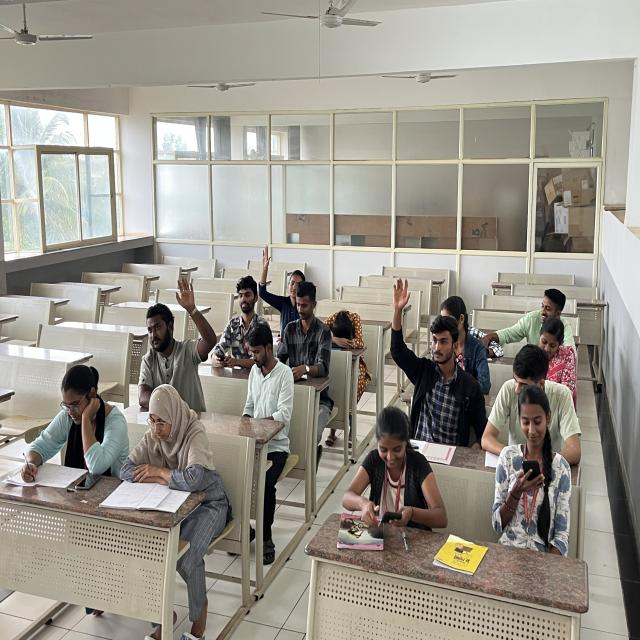Hand Rising: (388, 280, 481, 419), (138, 278, 214, 394), (261, 241, 317, 328)
Reading: (113, 386, 213, 516)
Sleeping: (325, 304, 370, 349)
Using Phone: (484, 382, 579, 527), (338, 413, 445, 534), (204, 270, 269, 373)
Writing: (11, 360, 124, 484)
